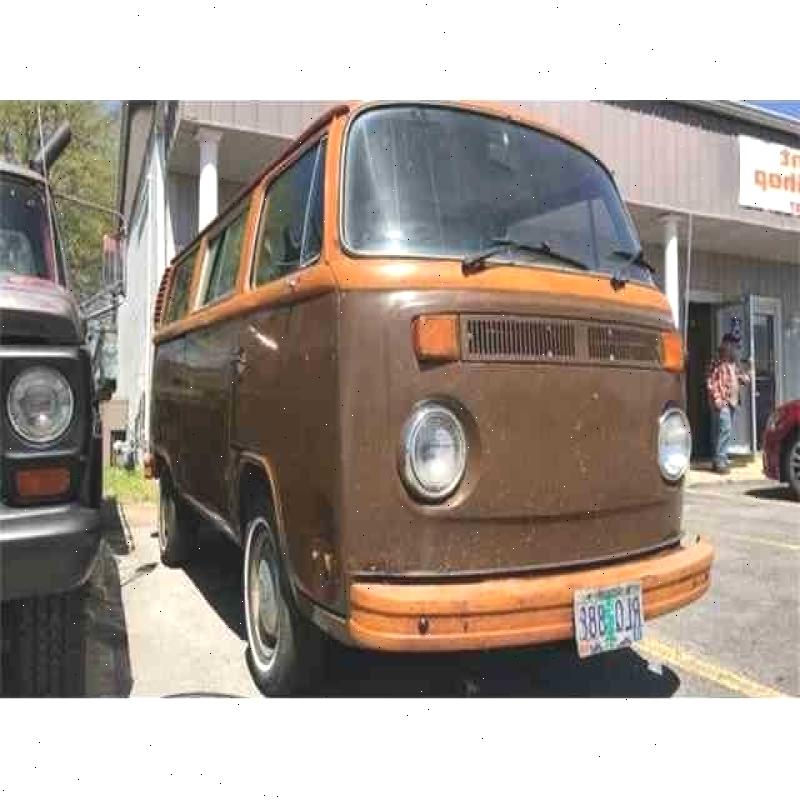bus: (122, 99, 730, 704)
